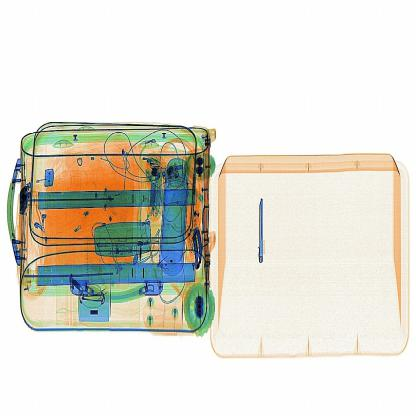pliers: (247, 188, 274, 267)
